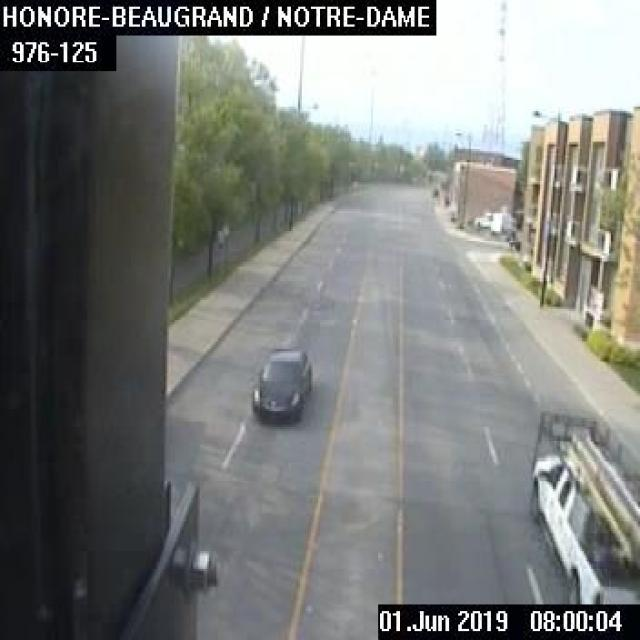vehicle: (524, 404, 638, 600), (247, 346, 311, 424)
